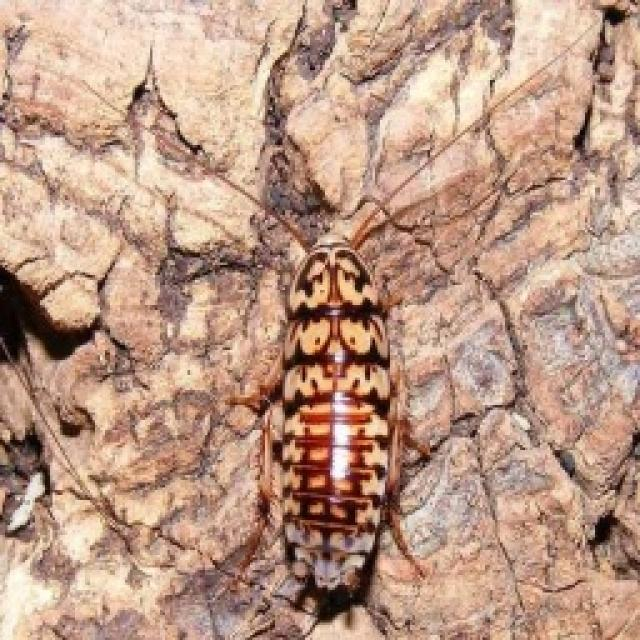cockroach: (232, 189, 428, 628)
